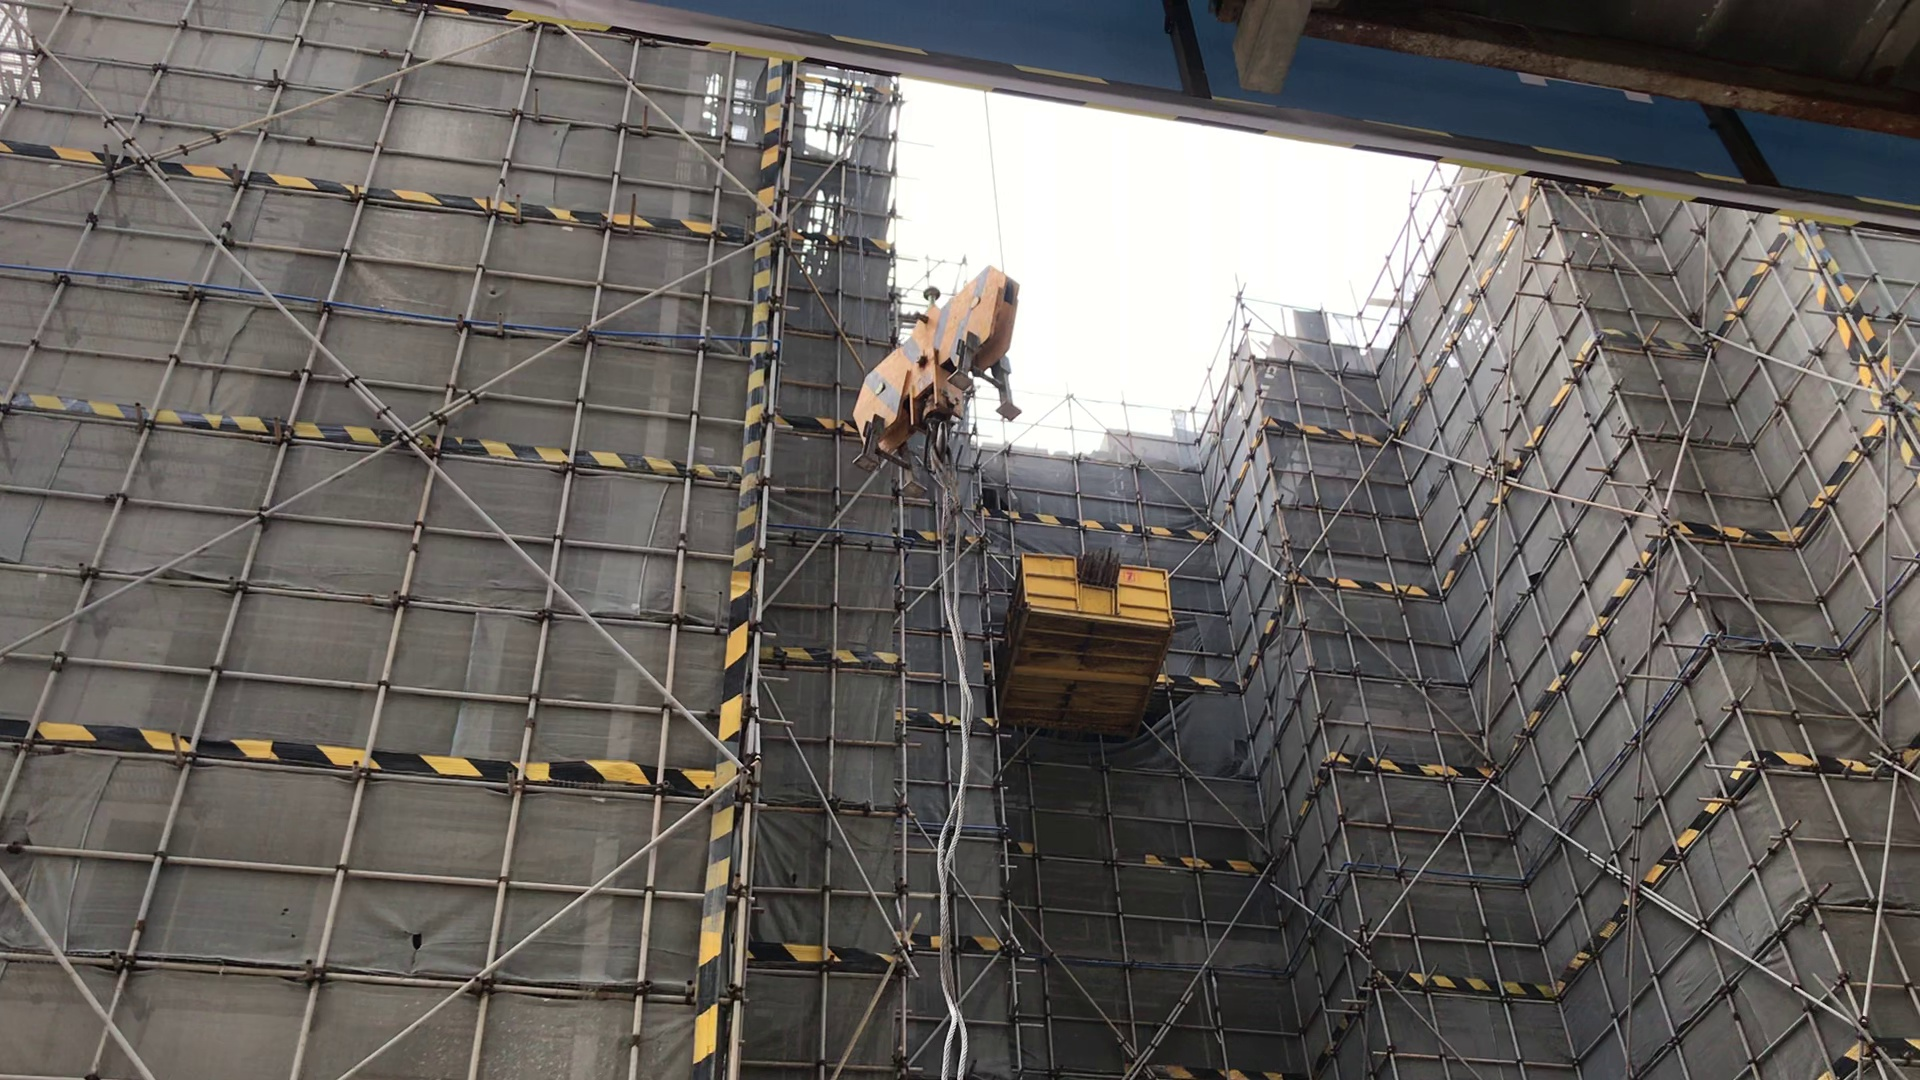hook: (841, 268, 1029, 505)
